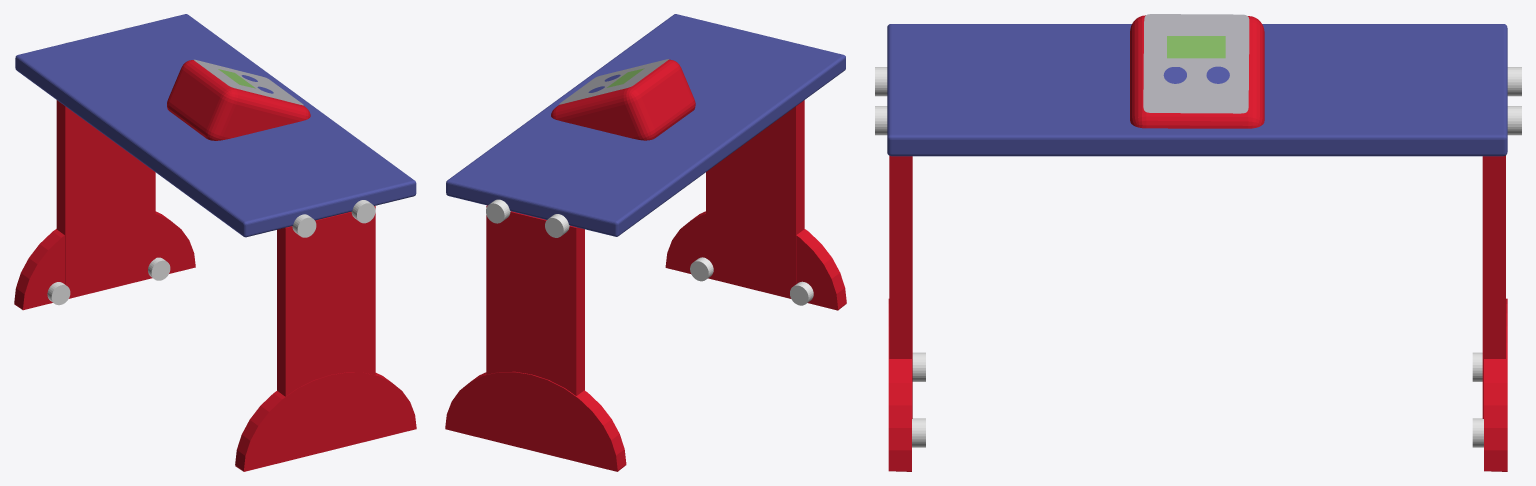
The model's file is desk_v1.fbx.
3 renders of one model, left to right at view 1: azimuth 30°, elevation 25°; view 2: azimuth 150°, elevation 25°; view 3: azimuth 270°, elevation 25°, orthographic. The views are drawn at different scales.
Visible parts, largest first — view 1: top, L_side, R_side, L_cylinder, Cube, R_cylinder, Plane.001, Cylinder.001, Cylinder, Cylinder.007; view 2: top, R_side, L_side, R_cylinder, Cube, L_cylinder, Plane.001, Cylinder.003, Cylinder.002, Cylinder.004, Cylinder.005; view 3: top, Plane.001, R_side, Cube, L_side, R_cylinder, L_cylinder, Plane.
Boxes of the visible parts, x1,y1,x2,y2 form: top: (15, 14, 416, 237); L_side: (277, 206, 375, 396); R_side: (56, 100, 155, 298); L_cylinder: (235, 372, 416, 471); Cube: (167, 60, 310, 140); R_cylinder: (14, 211, 195, 310); Plane.001: (194, 59, 303, 105); Cylinder.001: (292, 214, 316, 237); Cylinder: (351, 200, 375, 223); Cylinder.007: (47, 282, 70, 305); top: (446, 14, 845, 236); R_side: (486, 205, 584, 395); L_side: (706, 100, 804, 297); R_cylinder: (445, 371, 626, 471); Cube: (551, 59, 695, 140); L_cylinder: (665, 211, 846, 310); Plane.001: (559, 59, 668, 104); Cylinder.003: (486, 199, 510, 223); Cylinder.002: (545, 214, 569, 237); Cylinder.004: (790, 281, 813, 305); Cylinder.005: (690, 257, 713, 281); top: (887, 24, 1507, 156); Plane.001: (1143, 14, 1249, 113); R_side: (1482, 155, 1505, 418); Cube: (1130, 15, 1264, 128); L_side: (889, 156, 912, 418); R_cylinder: (1484, 298, 1507, 471); L_cylinder: (888, 299, 911, 471); Plane: (1167, 36, 1225, 58).
Size of the model in its own units: 0.4603 by 0.7523 by 1.11.
